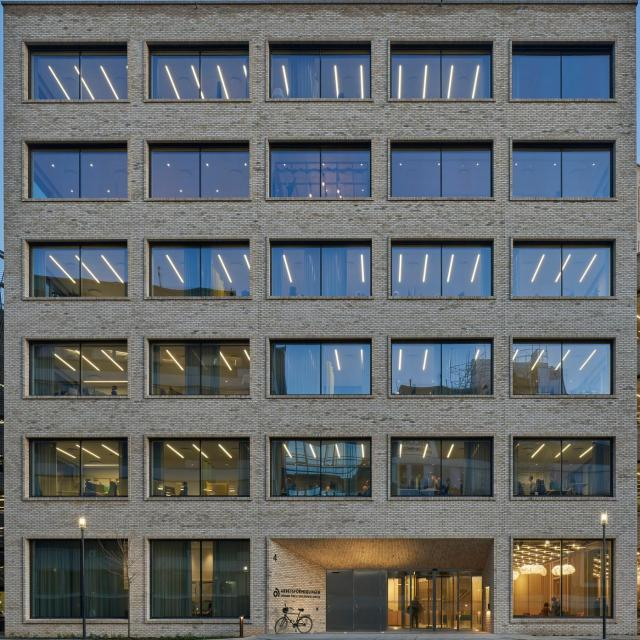door: (402, 569, 471, 633), (325, 569, 384, 633)
wall: (3, 0, 638, 637)
windows: (29, 540, 129, 617), (148, 542, 252, 616), (514, 536, 612, 614), (150, 343, 254, 401), (268, 436, 372, 494), (389, 440, 494, 497), (268, 341, 372, 398), (30, 436, 126, 496), (148, 438, 245, 496), (516, 146, 611, 199), (28, 49, 128, 98), (148, 147, 248, 196), (274, 49, 374, 98), (276, 150, 376, 199), (514, 50, 614, 99), (516, 247, 616, 296), (512, 345, 612, 394), (512, 446, 612, 495), (31, 150, 130, 199), (27, 349, 126, 398), (152, 52, 252, 100), (26, 246, 126, 294), (392, 51, 492, 99), (394, 147, 494, 195), (271, 246, 371, 294), (152, 246, 252, 294), (394, 248, 494, 296), (390, 346, 490, 394)
